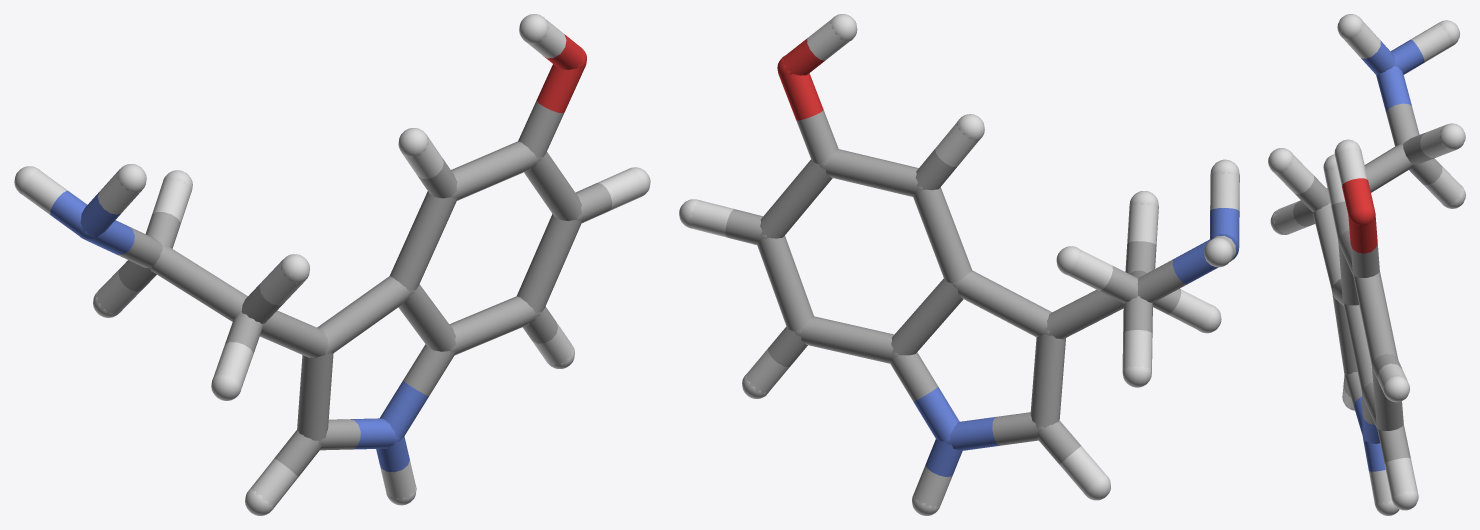
The model's file is serotonin-sticks.glb.
3 views of the same model, side by side, from view 1: azimuth 30°, elevation 25°; view 2: azimuth 150°, elevation 25°; view 3: azimuth 270°, elevation 25° (orthographic). The views are drawn at different scales.
Parts seen in each view (by area): view 1: serotonin-sticks; view 2: serotonin-sticks; view 3: serotonin-sticks.
Boxes of the visible parts, x1=… form: serotonin-sticks: x1=14, y1=14, x2=650, y2=515; serotonin-sticks: x1=679, y1=14, x2=1239, y2=515; serotonin-sticks: x1=1268, y1=14, x2=1465, y2=515.
Bounding box in the file's own units: 9.02 × 6.83 × 2.91.
